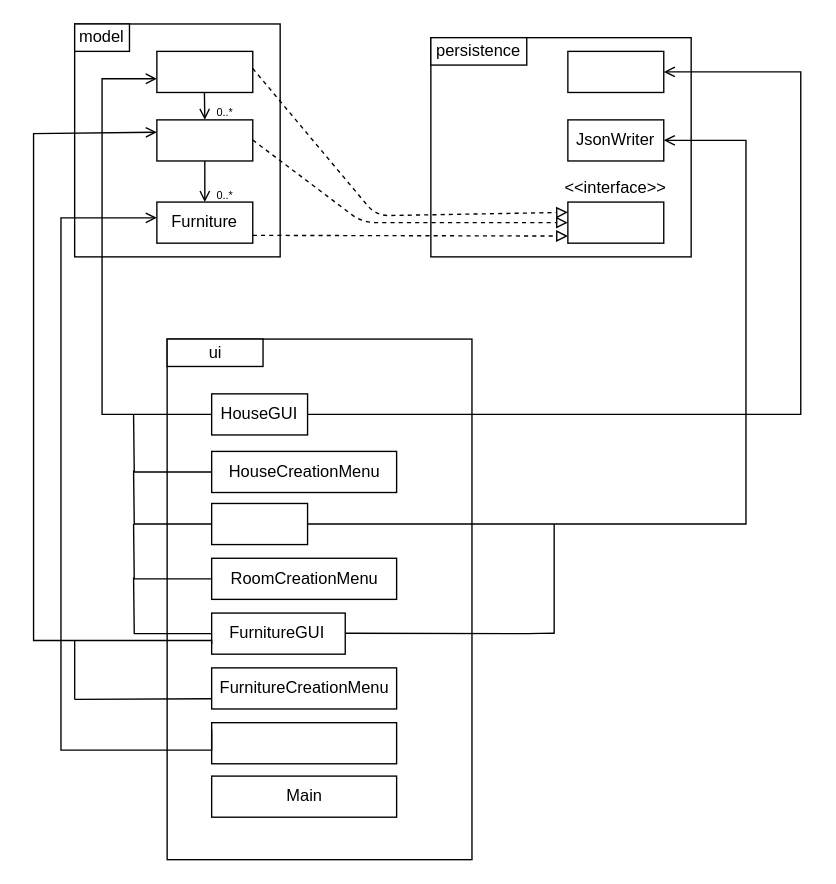
This 836x884 diagram has some shape labels left out. The centre of each missing label's shape, as x and y in pixels:
FurnitureDetailsMenu: point (303, 742)
House: point (204, 71)
JsonReader: point (615, 71)
Room: point (204, 140)
RoomGUI: point (259, 523)
Writable: point (615, 222)
